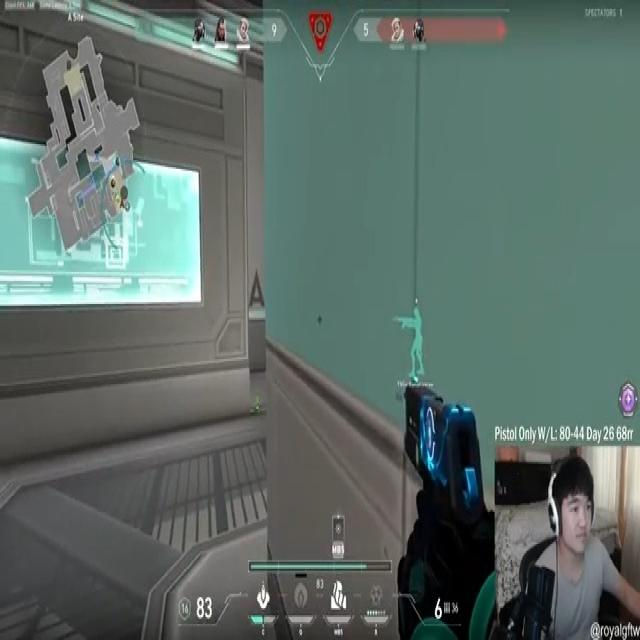ally behind wall: (395, 298, 430, 385)
